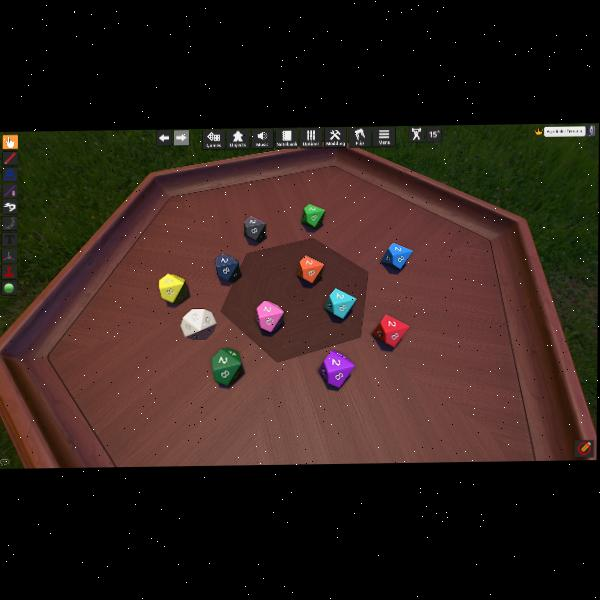d10: (319, 349, 354, 389), (374, 313, 409, 347), (211, 348, 242, 385), (181, 307, 216, 339), (257, 299, 285, 333), (325, 287, 354, 319), (159, 272, 187, 303), (381, 242, 411, 270), (215, 253, 241, 282), (298, 255, 322, 284), (244, 216, 267, 243), (302, 204, 324, 229)
